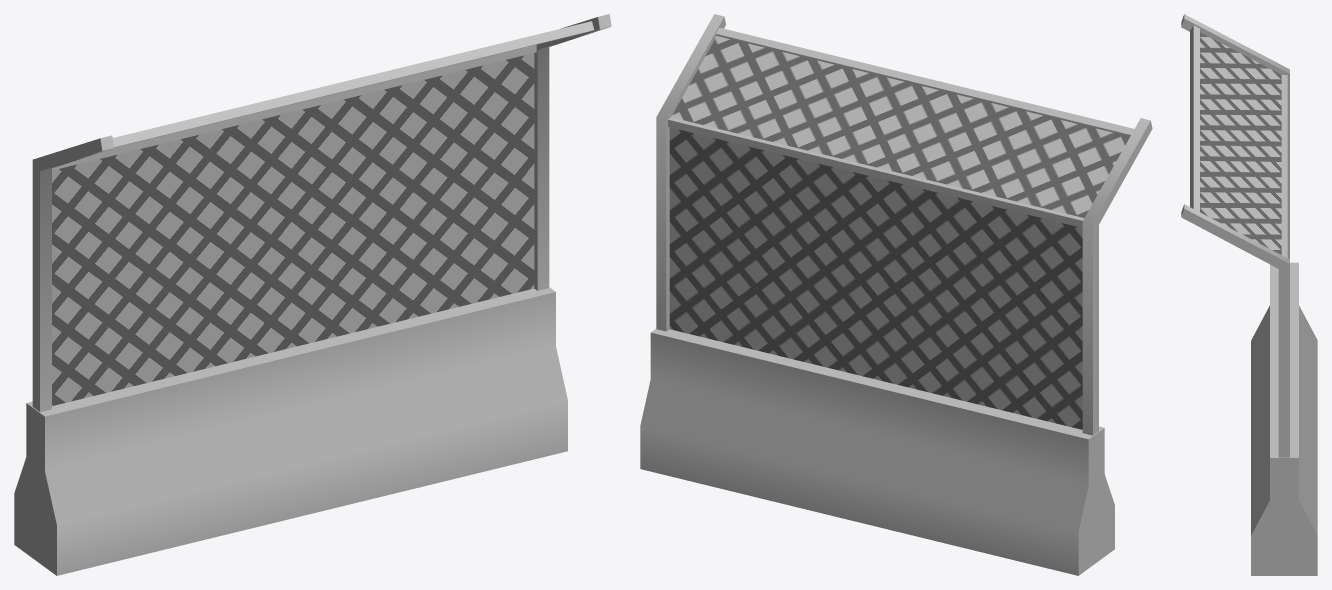
File: SR_Prop_Fence.fbx
3 renders of one model, left to right at view 1: azimuth 30°, elevation 25°; view 2: azimuth 150°, elevation 25°; view 3: azimuth 270°, elevation 25°, orthographic. The views are drawn at different scales.
Parts seen in each view (by area): view 1: SR_Prop_Fence_Links, SR_Prop_Fence; view 2: SR_Prop_Fence_Links, SR_Prop_Fence; view 3: SR_Prop_Fence, SR_Prop_Fence_Links.
Boxes of the visible parts, <box> form: SR_Prop_Fence_Links: <box>52,53,534,405</box>; SR_Prop_Fence: <box>14,14,611,575</box>; SR_Prop_Fence_Links: <box>669,36,1129,429</box>; SR_Prop_Fence: <box>640,14,1152,575</box>; SR_Prop_Fence: <box>1181,14,1317,575</box>; SR_Prop_Fence_Links: <box>1200,32,1281,254</box>.
Size of the model in its own units: 10 by 8.76 by 2.96.
